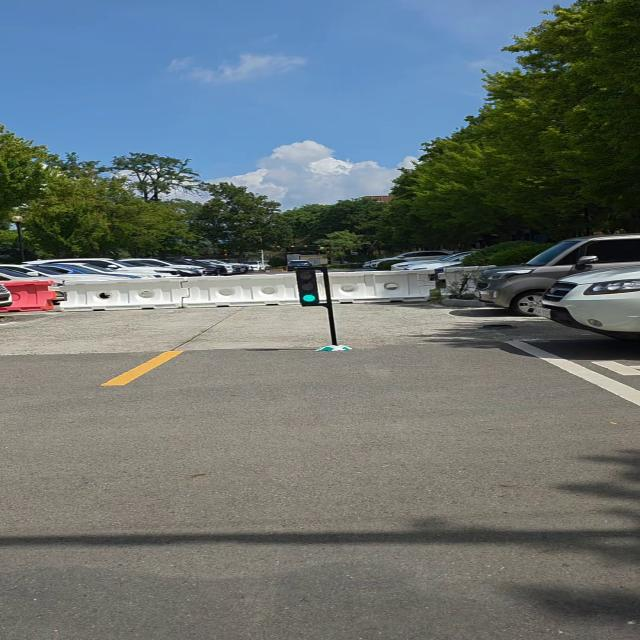green: (295, 268, 326, 307)
